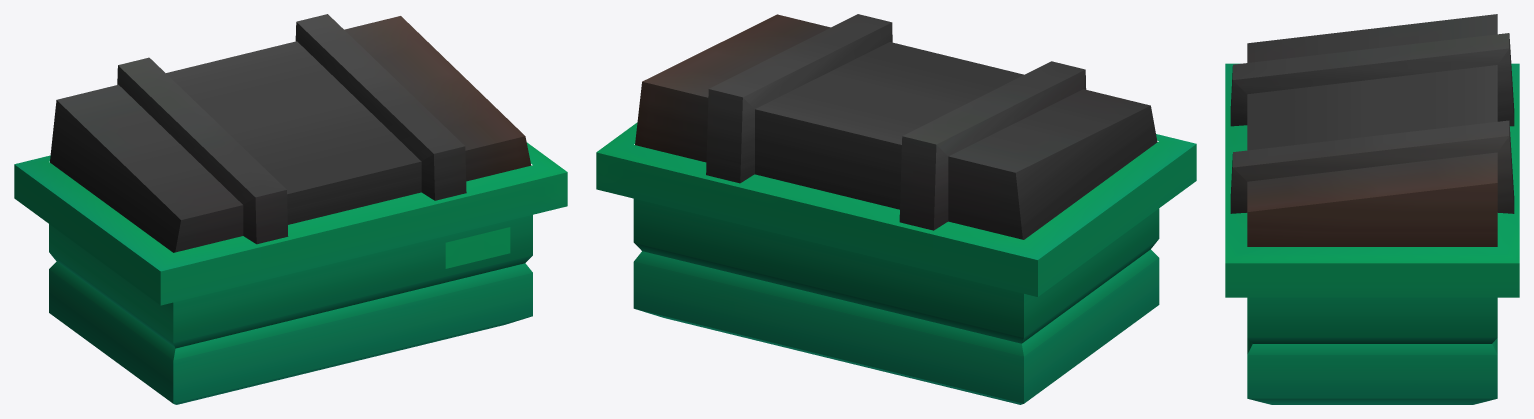
The model's file is dumpster.glb.
3 renders of one model, left to right at view 1: azimuth 30°, elevation 25°; view 2: azimuth 150°, elevation 25°; view 3: azimuth 270°, elevation 25°, orthographic. The views are drawn at different scales.
Visible parts, largest first — view 1: dumpster; view 2: dumpster; view 3: dumpster.
Part boxes in pixels (bbox=[...]): dumpster: bbox=[14, 14, 567, 404]; dumpster: bbox=[596, 14, 1196, 404]; dumpster: bbox=[1225, 14, 1519, 404].
Bounding box in the file's own units: 0.5659 × 0.3173 × 0.3528.
Materials: 1 (1 with a texture image).
